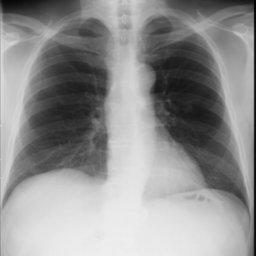left lobe: (143, 16, 247, 204)
right lobe: (6, 20, 111, 202)
